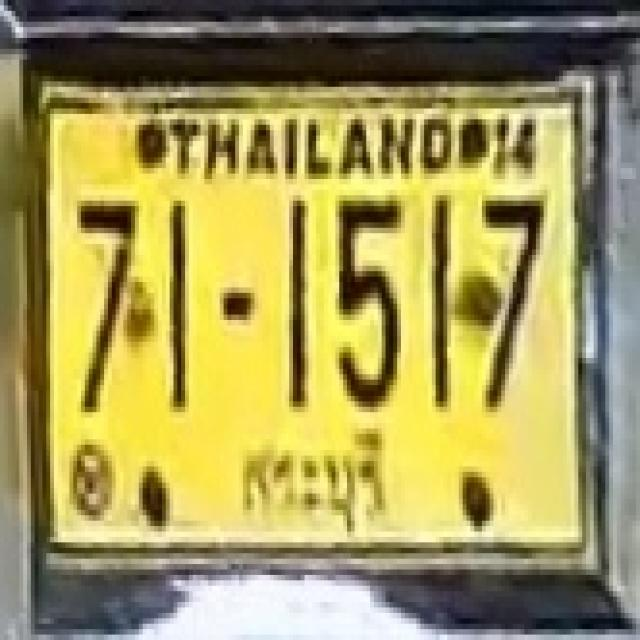1: (285, 198, 305, 404), (166, 198, 185, 409), (430, 193, 449, 404), (168, 200, 187, 407)
5: (336, 198, 397, 404)
7: (478, 195, 540, 407), (77, 198, 135, 409)
SRI: (230, 425, 392, 547)
